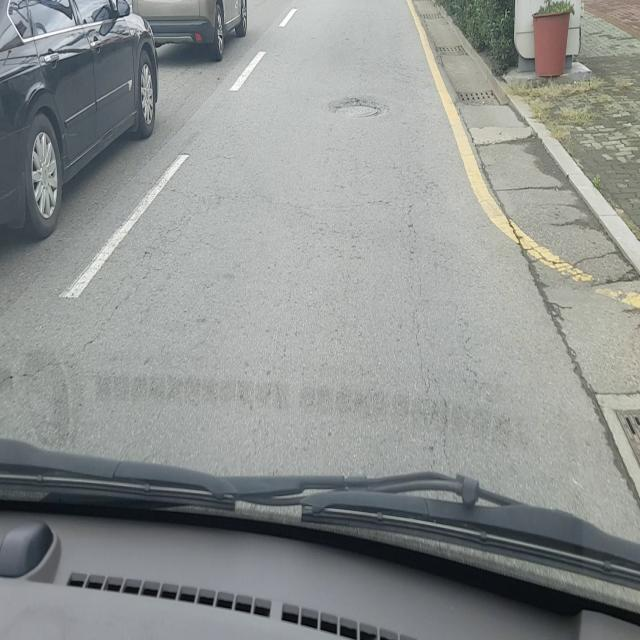Pothole: (327, 95, 388, 118)
